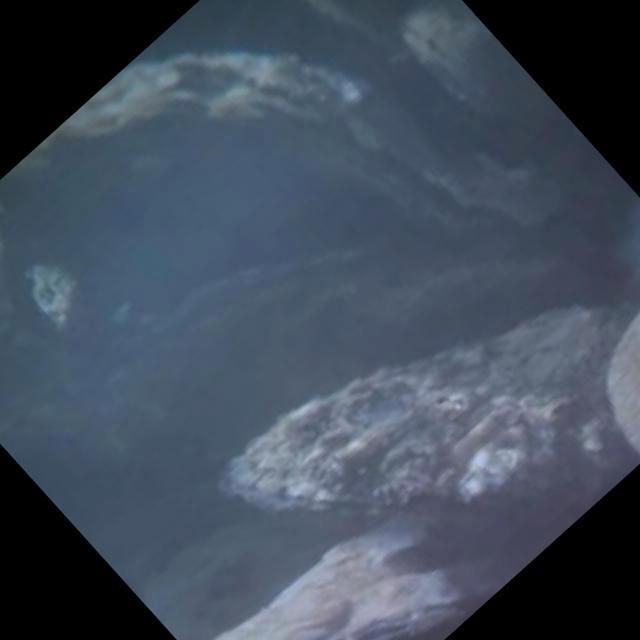Oyster-Closed: (225, 304, 639, 520), (218, 504, 540, 640)
Oyster-Open: (23, 42, 575, 240), (95, 240, 427, 466)
